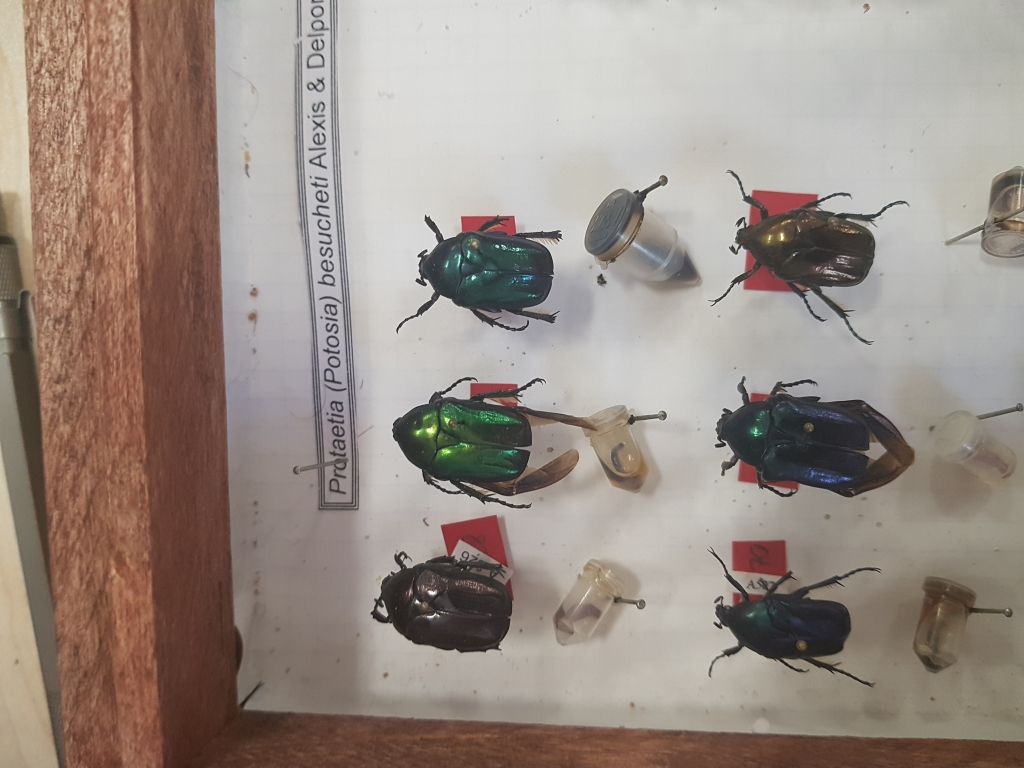Protaetia_besucheti: (700, 155, 919, 358), (383, 371, 605, 515), (693, 540, 891, 700), (705, 367, 920, 508), (383, 201, 578, 333), (363, 540, 538, 673)
